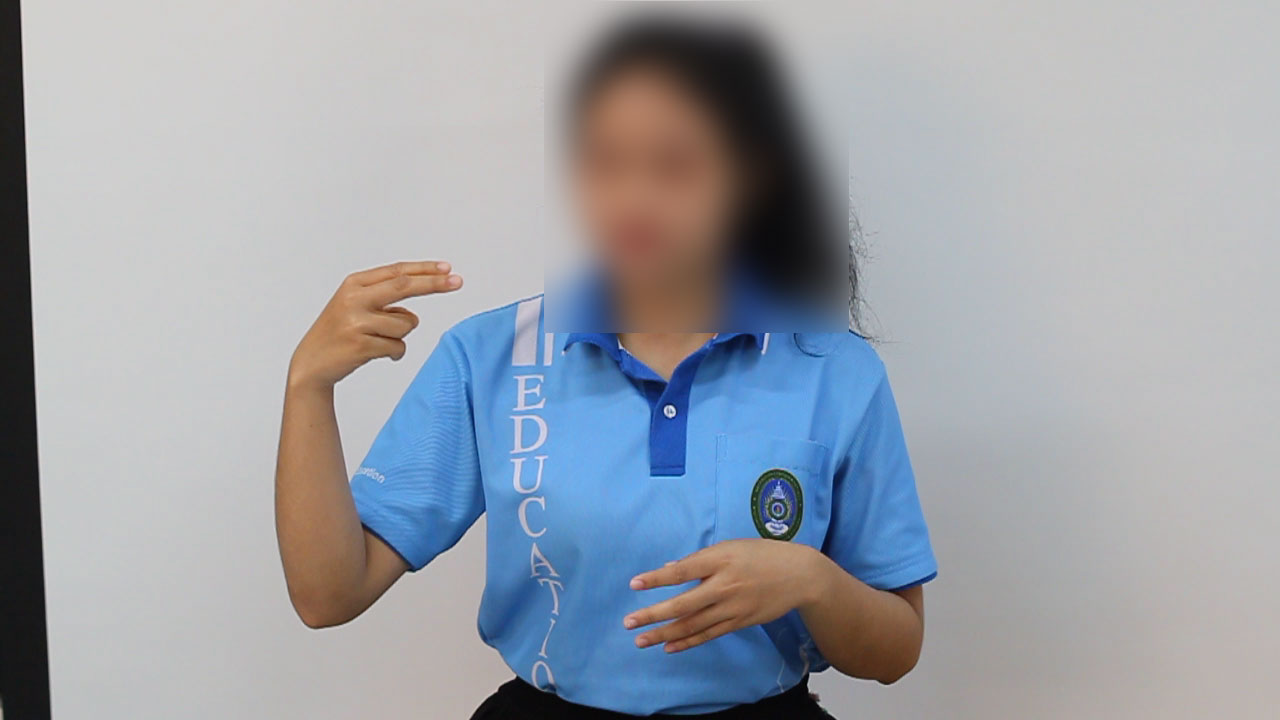hor: (278, 248, 476, 389)
